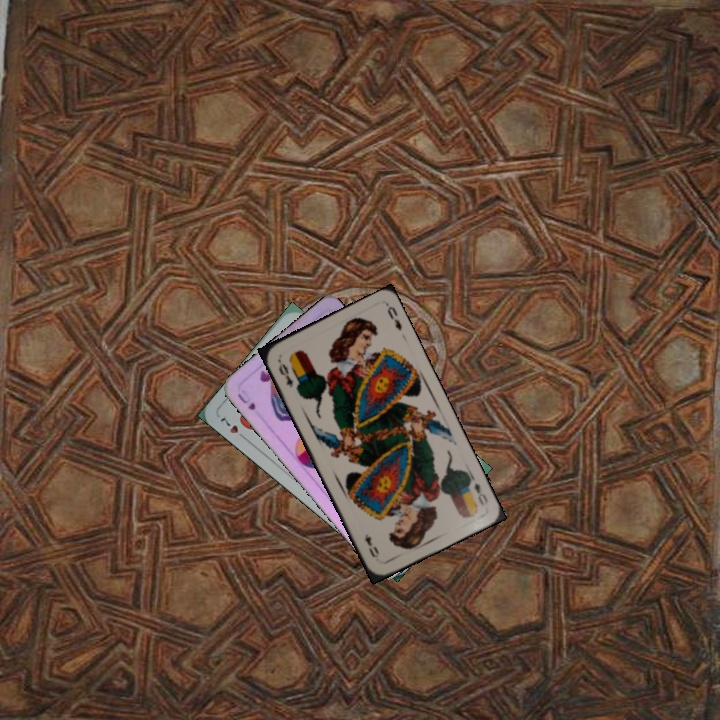EO: (463, 471, 490, 508), (274, 356, 296, 390)
H7: (216, 412, 250, 443)
SU: (233, 385, 258, 413)
